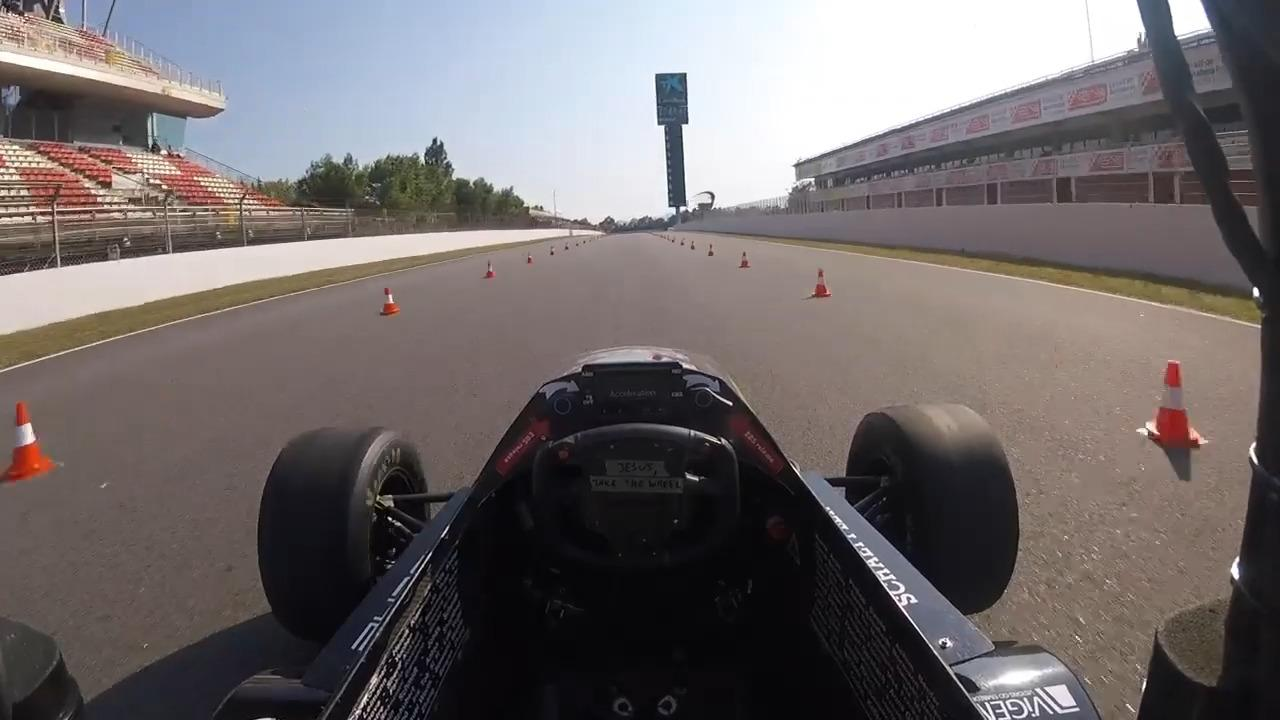orange_cone: (1137, 361, 1209, 451), (3, 401, 57, 482), (379, 287, 400, 317), (813, 269, 832, 298), (483, 260, 497, 279), (738, 250, 751, 270)
